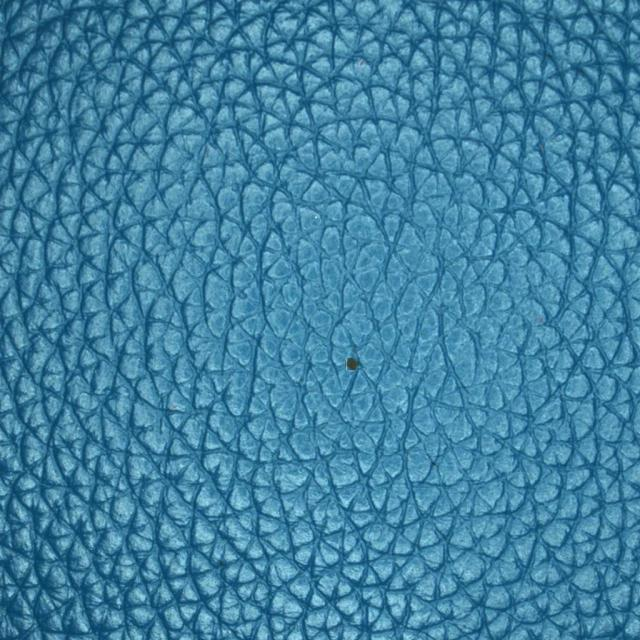pinhole: (254, 298, 452, 433)
